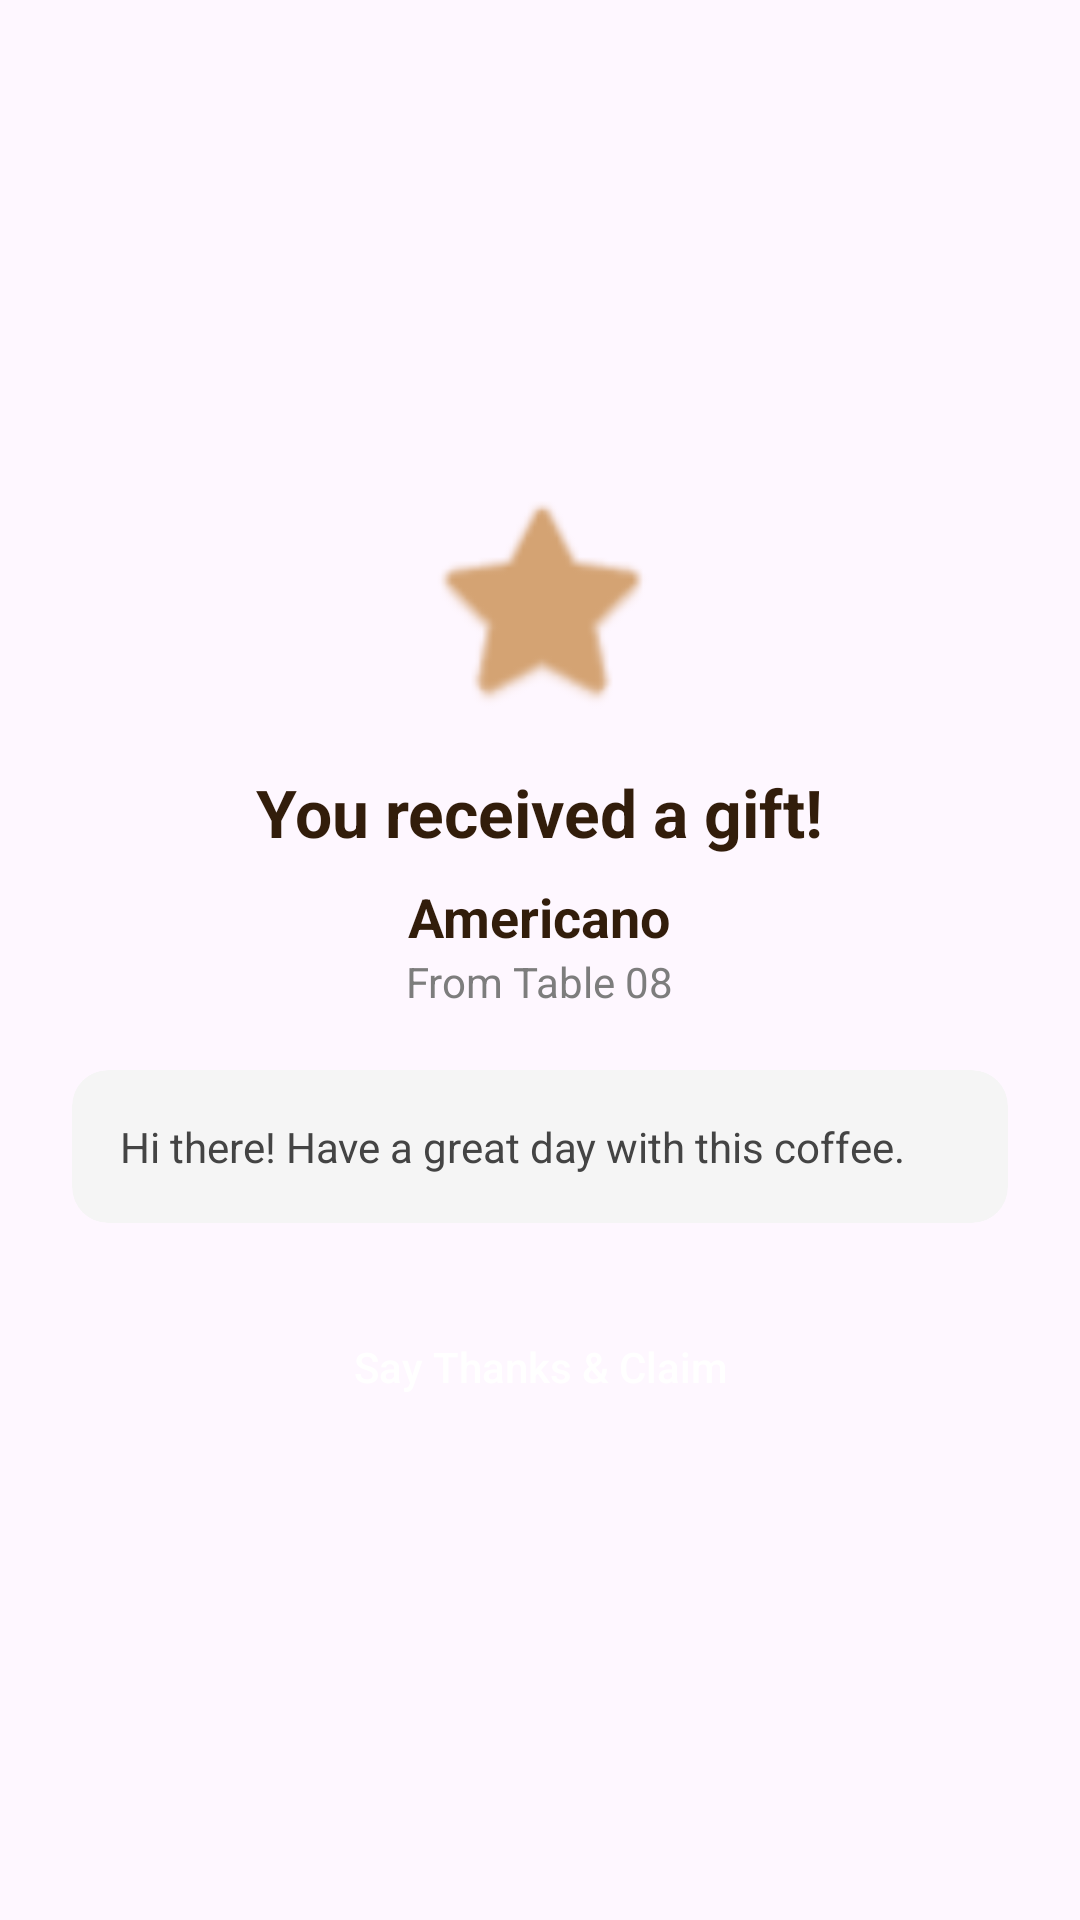

Point at icon controls on the screen. Image size 1080px×1920px, points as (x,y).
star on: (542,601)
